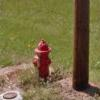Hydrant: (29, 31, 55, 88)
